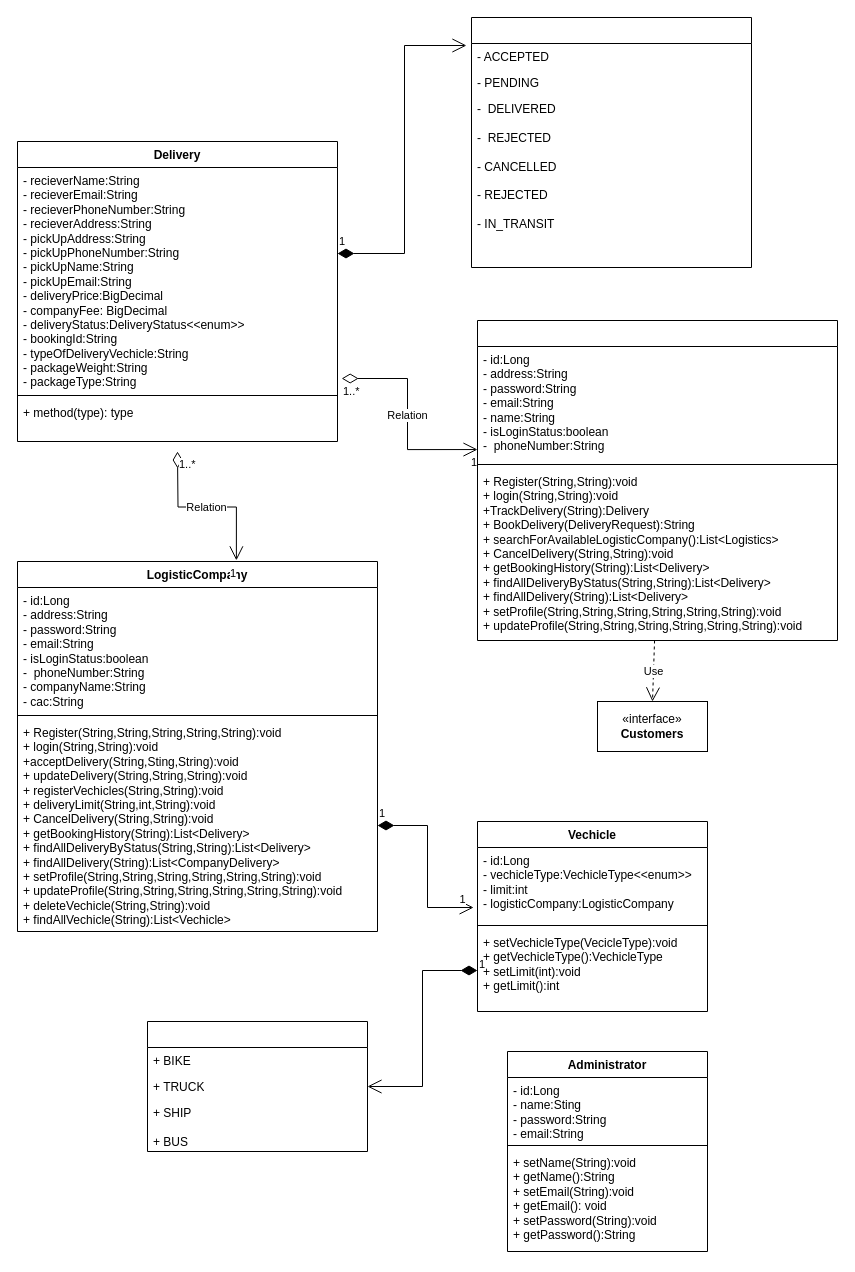
The diagram is 855 pixels wide and 1272 high, and some of its shapes have lost their labels. The shapes that lost their labels are listed below. From the top down, each one's box as (x1, y1, x2, y2) in pixels, then its label:
(470, 16, 752, 268): DeliveryStatus<<enum>>
(476, 320, 838, 640): Customer
(146, 1020, 368, 1152): VechicleType<<enum>>
